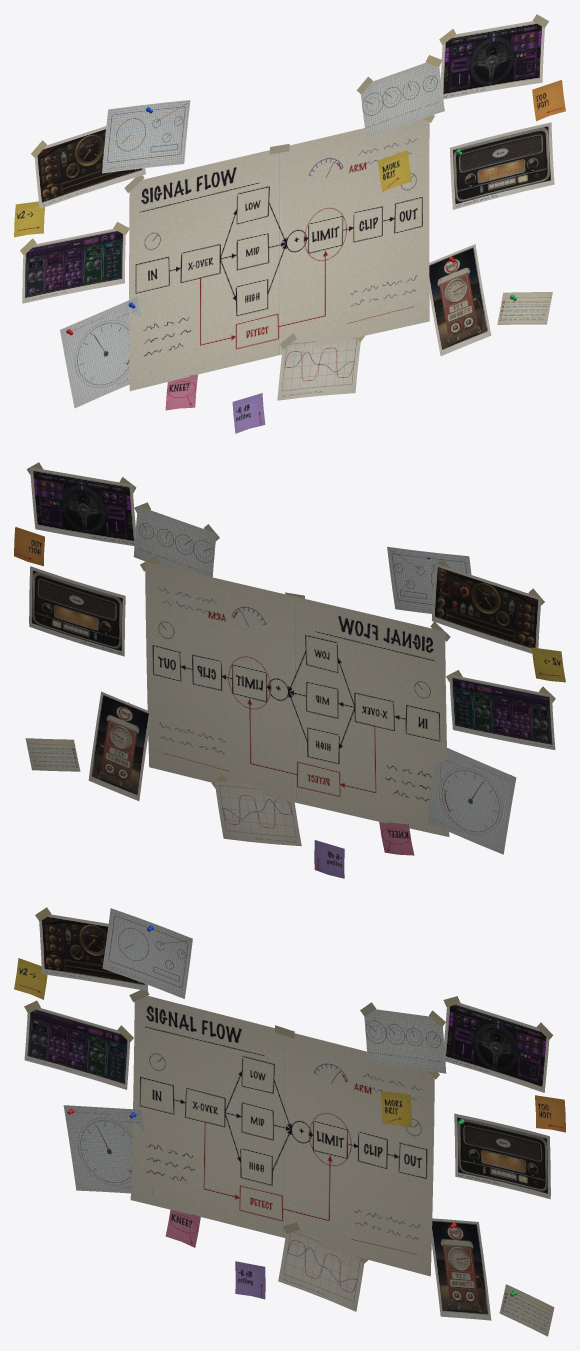
The model's file is sketch-wall.glb.
3 renders of one model, top to bottom at view 1: azimuth 30°, elevation 25°; view 2: azimuth 150°, elevation 25°; view 3: azimuth 330°, elevation 25°, orthographic.
Parts seen in each view (by area): view 1: sketch_wall; view 2: sketch_wall; view 3: sketch_wall.
Part boxes in pixels (x1,y1,x2,y2): sketch_wall: (14,14,565,433); sketch_wall: (14,462,565,878); sketch_wall: (14,907,565,1336).
Bounding box in the file's own units: 1.4 × 0.8572 × 0.0197.
Materials: 1 (1 with a texture image).
